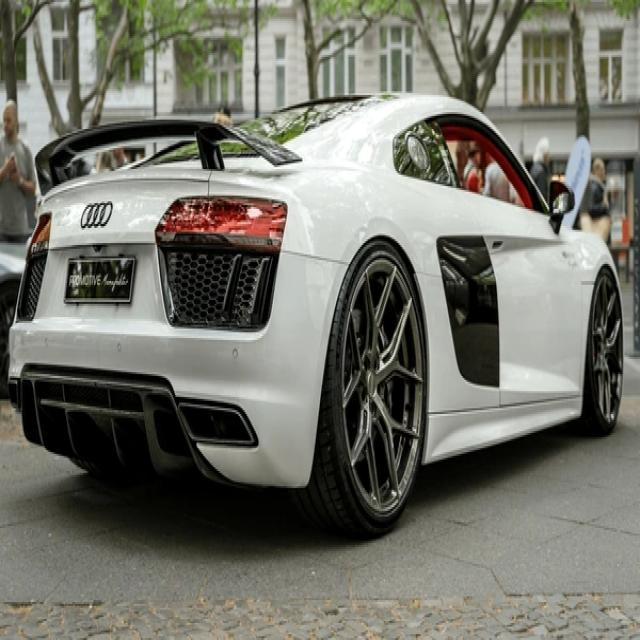audi: (78, 198, 115, 232)
